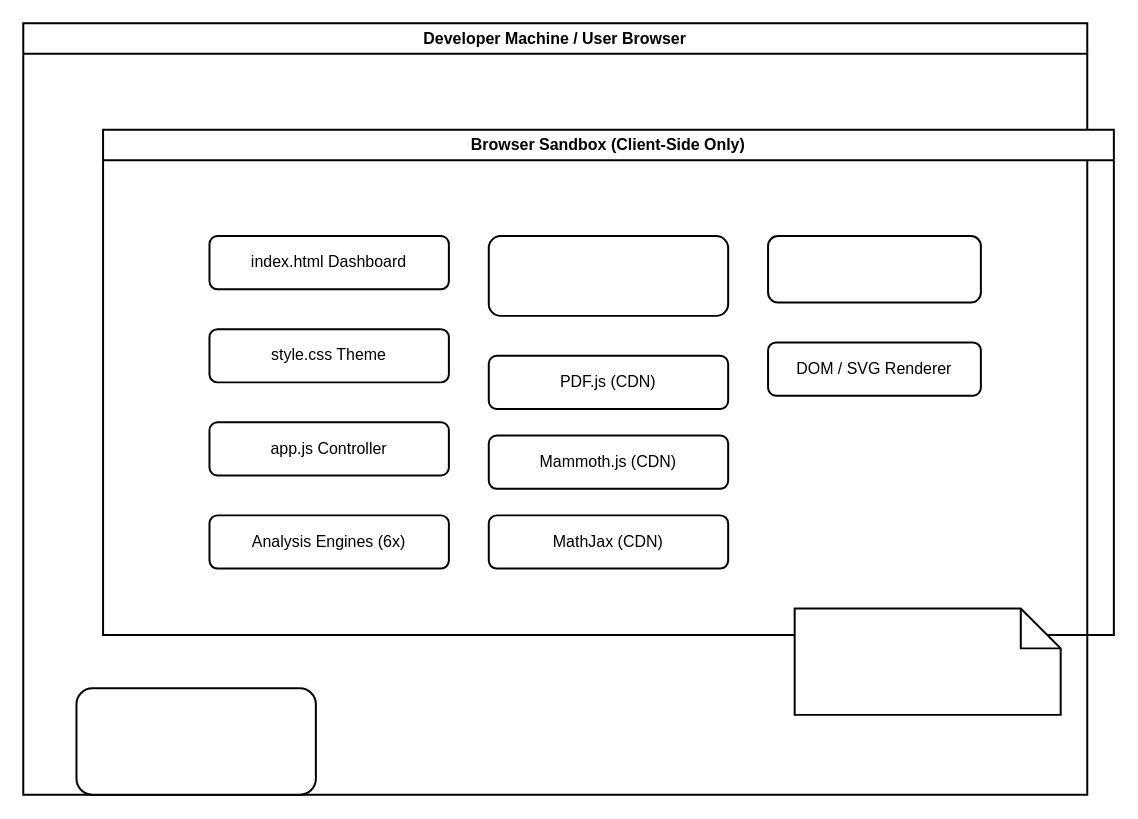
Some shapes in this 1138 by 819 pixel diagram are drawn without their labels. Each missing label, with the centre of its shape:
CDN Servers (read-only, load-once): [195,741]
FileReader API (native): [873,268]
No Backend Server No Database No Data Transmitted: [927,661]
Training Dataset (in-memory): [608,275]
